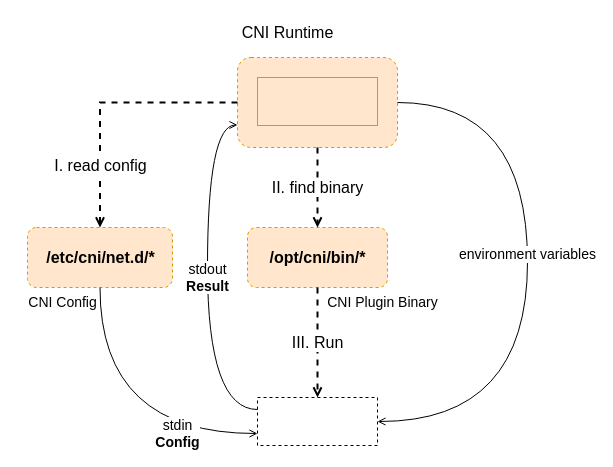
Image size: 613x467. Some labels were removed from this diagram. The shapes that lost their labels are listed below. From the top down, each one's centre as x and y in pixels, then its label:
the point at 317,101: Kubelet
the point at 317,421: Process
